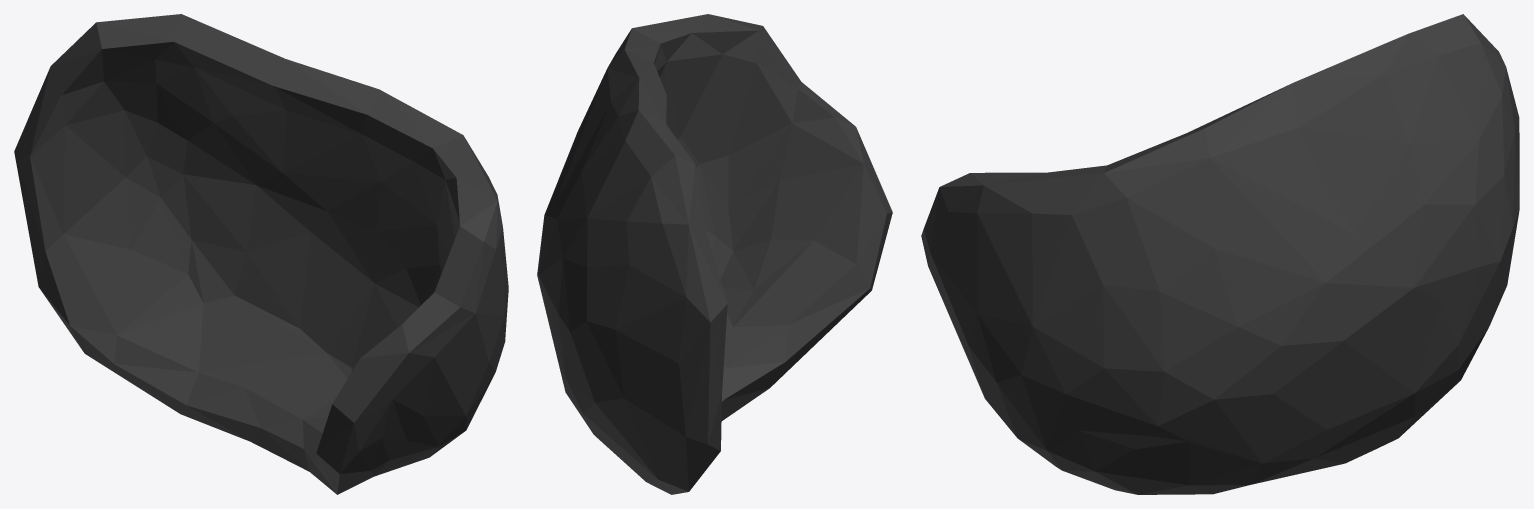
The model's file is Tarsal_IV_medial_process.glb.
3 renders of one model, left to right at view 1: azimuth 30°, elevation 25°; view 2: azimuth 150°, elevation 25°; view 3: azimuth 270°, elevation 25°, orthographic. The views are drawn at different scales.
Visible parts, largest first — view 1: Tarsal_IV_medial_process; view 2: Tarsal_IV_medial_process; view 3: Tarsal_IV_medial_process.
Part boxes in pixels (x1,y1,x2,y2): Tarsal_IV_medial_process: (14, 14, 508, 494); Tarsal_IV_medial_process: (537, 14, 892, 494); Tarsal_IV_medial_process: (921, 14, 1519, 494).
Bounding box in the file's own units: 0.00947 × 0.0121 × 0.0151.
Materials: 1 (1 with a texture image).
